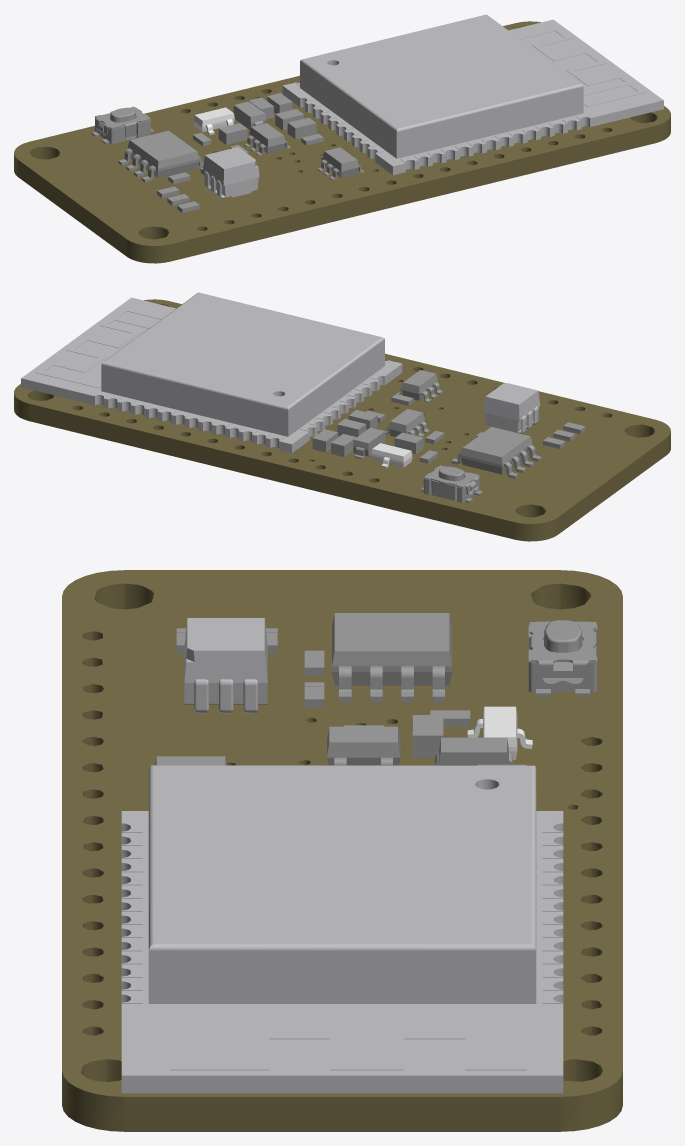
File: ada-4264.glb
3 views of the same model, one above another, from view 1: azimuth 30°, elevation 25°; view 2: azimuth 150°, elevation 25°; view 3: azimuth 270°, elevation 25° (orthographic). The views are drawn at different scales.
Visible parts, largest first — view 1: 0.16666666666666666_0.16666666666666666_0.08333333333333333_, 0.5833333333333334_0.5833333333333334_0.5833333333333334_0.8, 0.3333333333333333_0.3333333333333333_0.3333333333333333_0, 0.9166666666666666_0.9166666666666666_0.9166666666666666_0.8; view 2: 0.16666666666666666_0.16666666666666666_0.08333333333333333_, 0.5833333333333334_0.5833333333333334_0.5833333333333334_0.8, 0.3333333333333333_0.3333333333333333_0.3333333333333333_0, 0.9166666666666666_0.9166666666666666_0.9166666666666666_0.8; view 3: 0.5833333333333334_0.5833333333333334_0.5833333333333334_0.8, 0.16666666666666666_0.16666666666666666_0.08333333333333333_, 0.3333333333333333_0.3333333333333333_0.3333333333333333_0, 0.9166666666666666_0.9166666666666666_0.9166666666666666_0.8.
Part boxes in pixels (left/top/right/bottom): 0.16666666666666666_0.16666666666666666_0.08333333333333333_: left=14, top=21, right=670, bottom=263; 0.5833333333333334_0.5833333333333334_0.5833333333333334_0.8: left=202, top=14, right=663, bottom=198; 0.3333333333333333_0.3333333333333333_0.3333333333333333_0: left=91, top=93, right=364, bottom=212; 0.9166666666666666_0.9166666666666666_0.9166666666666666_0.8: left=194, top=107, right=234, bottom=135; 0.16666666666666666_0.16666666666666666_0.08333333333333333_: left=14, top=299, right=670, bottom=541; 0.5833333333333334_0.5833333333333334_0.5833333333333334_0.8: left=21, top=292, right=540, bottom=453; 0.3333333333333333_0.3333333333333333_0.3333333333333333_0: left=312, top=370, right=585, bottom=502; 0.9166666666666666_0.9166666666666666_0.9166666666666666_0.8: left=371, top=443, right=412, bottom=468; 0.5833333333333334_0.5833333333333334_0.5833333333333334_0.8: left=121, top=618, right=563, bottom=1093; 0.16666666666666666_0.16666666666666666_0.08333333333333333_: left=62, top=570, right=622, bottom=1131; 0.3333333333333333_0.3333333333333333_0.3333333333333333_0: left=155, top=613, right=597, bottom=765; 0.9166666666666666_0.9166666666666666_0.9166666666666666_0.8: left=467, top=706, right=532, bottom=759.
Bounding box in the file's own units: 5.08 × 0.4969 × 2.29.
